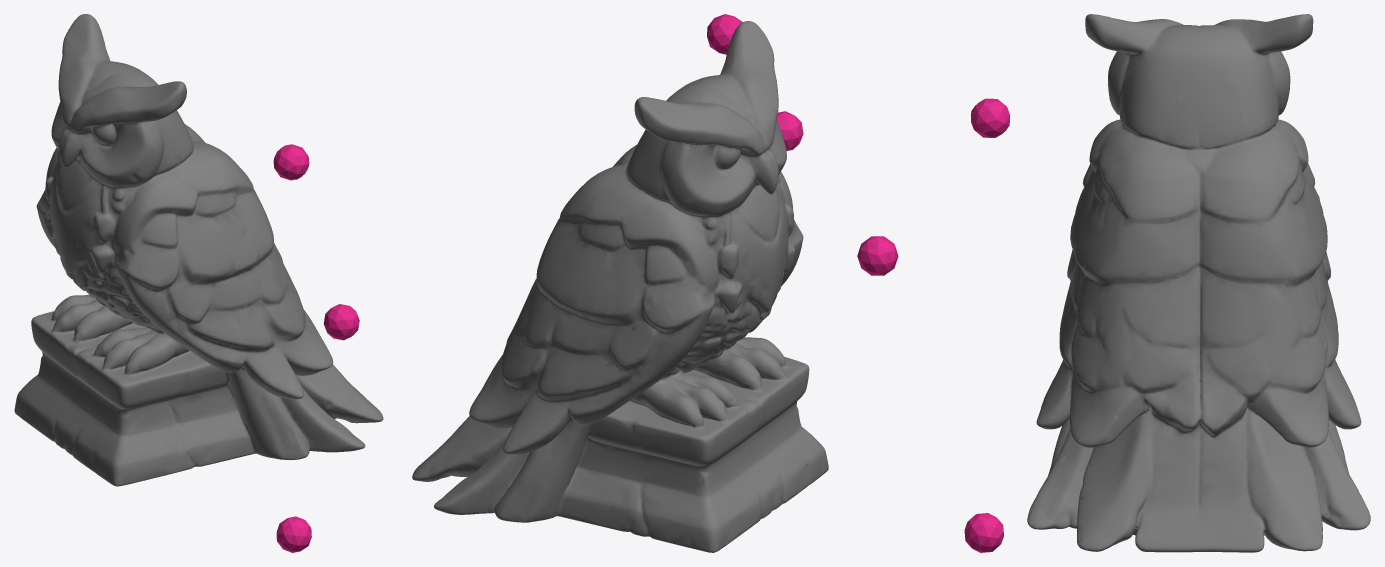
File: owl.glb
3 renders of one model, left to right at view 1: azimuth 30°, elevation 25°; view 2: azimuth 150°, elevation 25°; view 3: azimuth 270°, elevation 25°, orthographic. The views are drawn at different scales.
Visible parts, largest first — view 1: mesh_0, Bottom, Top, Middle; view 2: mesh_0, Top, Middle; view 3: mesh_0, Middle, Bottom, Top.
Boxes of the visible parts, bbox=[...] form: mesh_0: bbox=[14, 14, 383, 486]; Bottom: bbox=[276, 516, 311, 552]; Top: bbox=[273, 144, 309, 180]; Middle: bbox=[323, 304, 359, 340]; mesh_0: bbox=[412, 21, 828, 552]; Top: bbox=[707, 14, 742, 54]; Middle: bbox=[777, 111, 803, 150]; mesh_0: bbox=[1027, 14, 1370, 552]; Middle: bbox=[857, 236, 898, 275]; Bottom: bbox=[964, 513, 1003, 552]; Top: bbox=[971, 98, 1009, 137].
Bounding box in the file's own units: 3.73 × 5.82 × 5.4.
